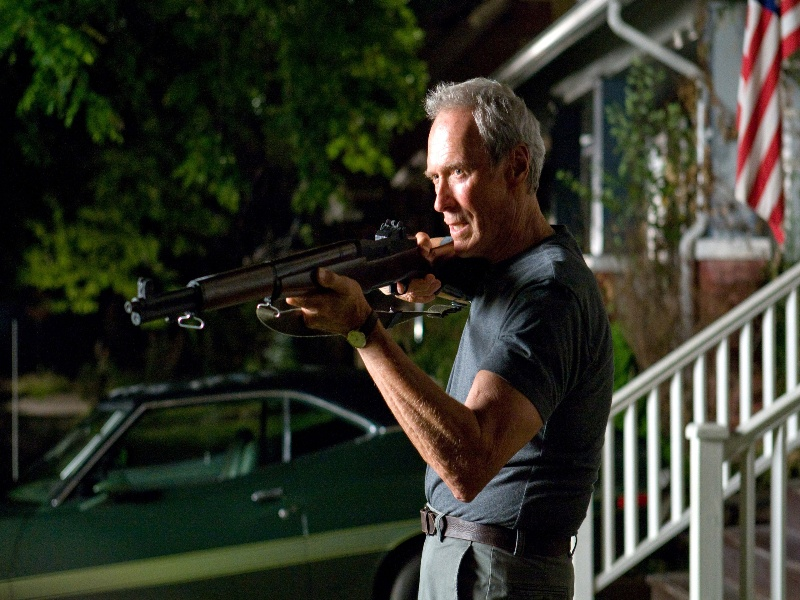person: (286, 77, 613, 600)
weapon: (124, 219, 456, 329)
